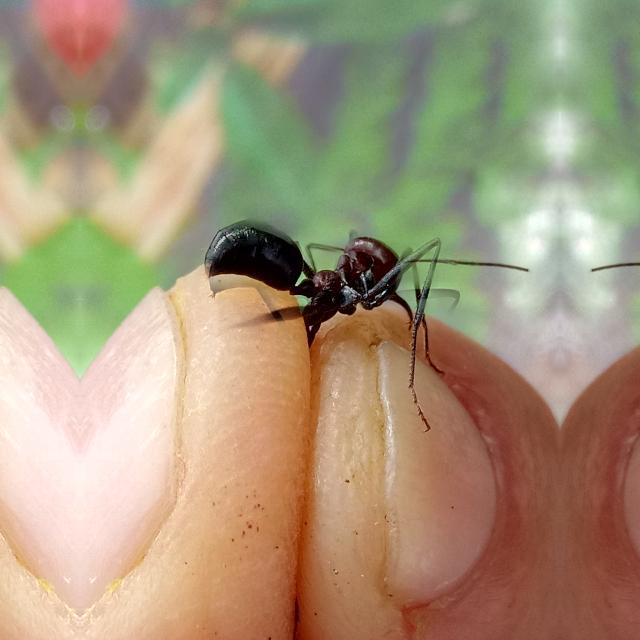Cataglyphis: (192, 201, 422, 359)
